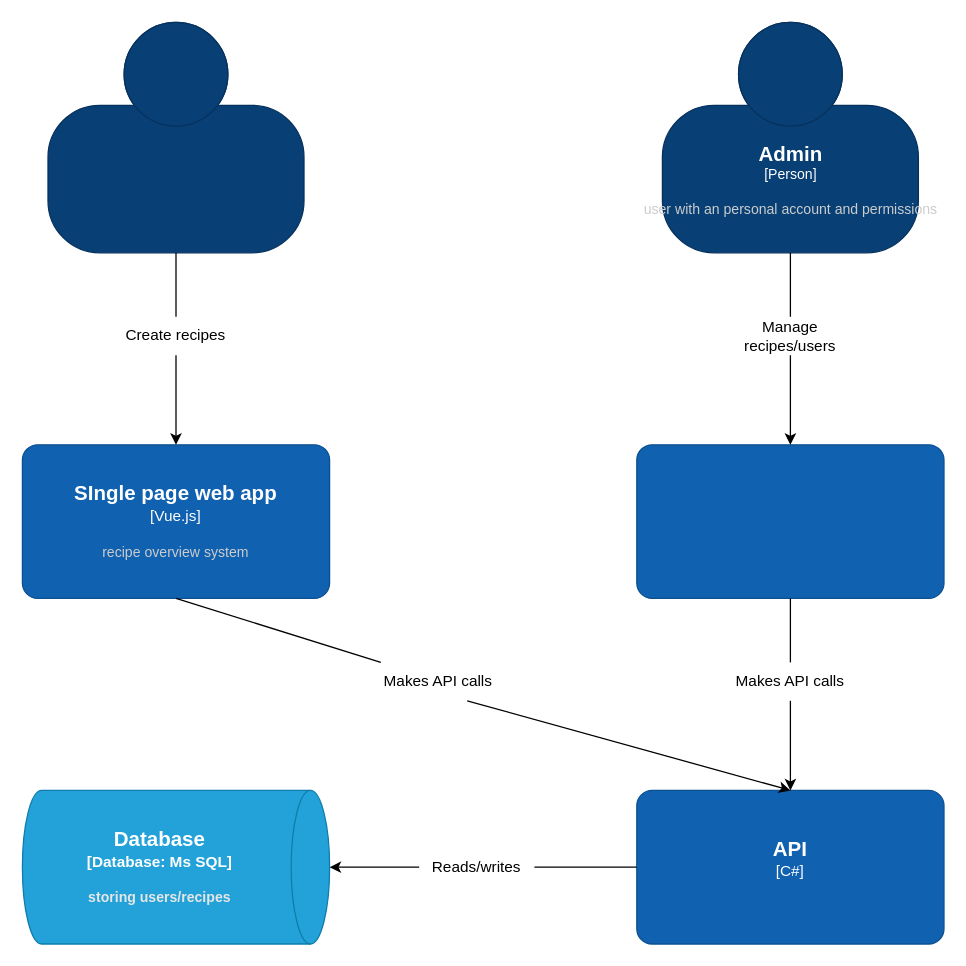
Some shapes in this 966 by 966 pixel diagram are drawn without their labels. Here are the shapes that lost their labels. From the top down, the centre of each, then its label:
the point at 175,137: User [Person] user with an personal account
the point at 790,521: Single page admin app [Vue.js] Recipe/user management system
